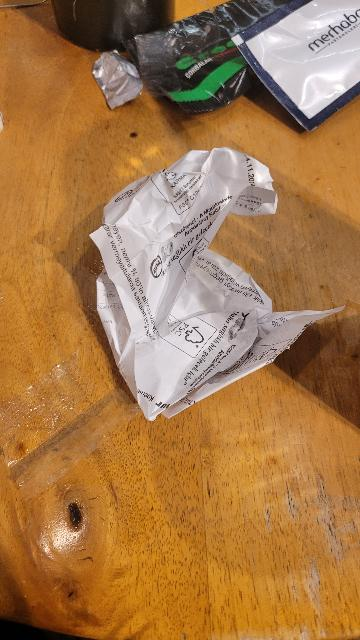Kagit: (78, 139, 353, 419)
Plastik: (237, 0, 360, 125), (114, 7, 249, 115)
